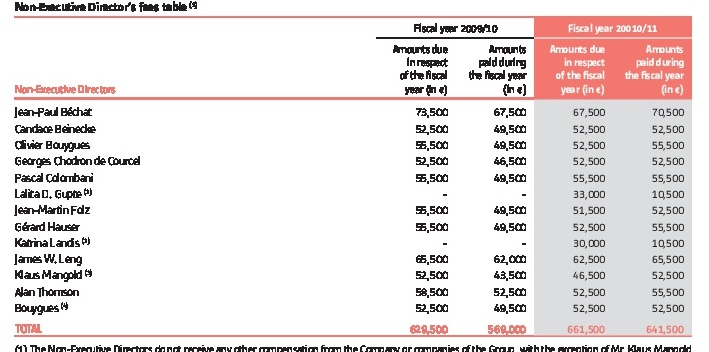table: (0, 0, 709, 352)
